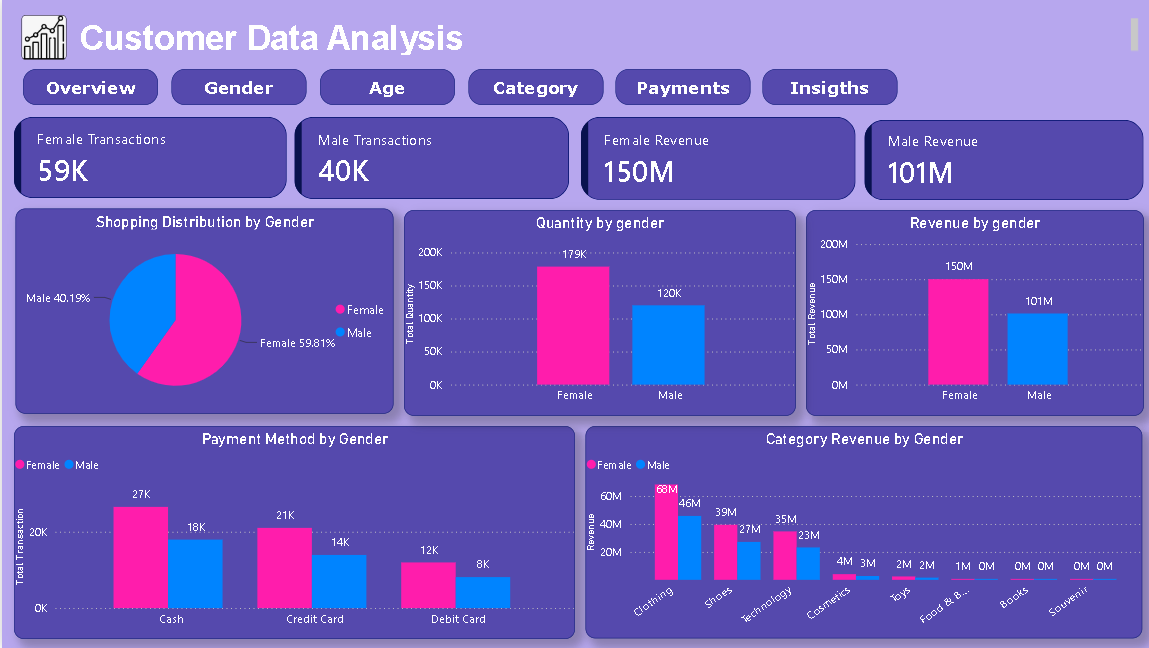

This screenshot's page, from the dashboard's own definition file:
{"tool":"powerbi","page":{"name":"Gender Analysis","canvas":[1280,720],"ordinal":1},"visuals":[{"type":"textbox","box":[81.4,15.7,1185.7,50],"z":0},{"type":"actionButton","box":[22.5,76.2,150,40],"z":1000},{"type":"actionButton","box":[187.5,76.2,150,40],"z":2000},{"type":"actionButton","box":[353.8,76.2,150,40],"z":3000},{"type":"actionButton","box":[518.8,76.2,150,40],"z":4000},{"type":"actionButton","box":[681.2,76.2,150,40],"z":5000},{"type":"actionButton","box":[845,76.2,150,40],"z":6000},{"type":"image","box":[22,16,50,50],"z":7000},{"type":"pieChart","title":"Shopping Distribution by Gender","fields":{"Category":["project_customer_segmentation customer.gender"],"Y":["project_customer_segmentation customer.Total Transaction"]},"box":[14.3,232.1,420,227.9],"z":8000},{"type":"clusteredColumnChart","title":"Revenue by gender","fields":{"Y":["project_customer_segmentation customer.Total Revenue"],"Category":["project_customer_segmentation customer.gender"]},"box":[893.3,233.3,375,228.3],"z":9000},{"type":"clusteredColumnChart","title":"Payment Method by Gender","fields":{"Category":["project_customer_segmentation customer.payment_method"],"Series":["project_customer_segmentation customer.gender"],"Y":["project_customer_segmentation customer.Total Transaction"]},"box":[13.3,473.3,623.3,236.7],"z":10000},{"type":"clusteredColumnChart","title":"Category Revenue by Gender","fields":{"Category":["project_customer_segmentation customer.category"],"Y":["Sum(project_customer_segmentation customer.total_revenue)"],"Series":["project_customer_segmentation customer.gender"]},"box":[648.8,472.5,618.8,236.2],"z":11000},{"type":"columnChart","title":"Quantity by gender","fields":{"Category":["project_customer_segmentation customer.gender"],"Y":["project_customer_segmentation customer.Total Quantity"]},"box":[446.7,233.3,435,228.3],"z":12000},{"type":"cardVisual","fields":{"Data":["project_customer_segmentation customer.Female Transactions"]},"box":[13.1,130,303.1,90],"z":13000},{"type":"cardVisual","fields":{"Data":["project_customer_segmentation customer.Male Transactions"]},"box":[325,130,305.6,91.9],"z":14000},{"type":"cardVisual","fields":{"Data":["project_customer_segmentation customer.Male Revenue"]},"box":[959.1,132.7,310,90],"z":17000},{"type":"cardVisual","fields":{"Data":["project_customer_segmentation customer.Female Revenue"]},"box":[643.7,130.5,305.3,92.1],"z":18000}]}

Visuals, with their boxes in screenshot pixels (x1, y1, x2, y2), scaled from the page's 1280x720 canvas onto the 1149x648 screenshot:
textbox: left=73, top=14, right=1137, bottom=59
actionButton: left=20, top=69, right=155, bottom=105
actionButton: left=168, top=69, right=303, bottom=105
actionButton: left=318, top=69, right=452, bottom=105
actionButton: left=466, top=69, right=600, bottom=105
actionButton: left=611, top=69, right=746, bottom=105
actionButton: left=759, top=69, right=893, bottom=105
image: left=20, top=14, right=65, bottom=59
"Shopping Distribution by Gender" pieChart: left=13, top=209, right=390, bottom=414
"Revenue by gender" clusteredColumnChart: left=802, top=210, right=1138, bottom=415
"Payment Method by Gender" clusteredColumnChart: left=12, top=426, right=571, bottom=639
"Category Revenue by Gender" clusteredColumnChart: left=582, top=425, right=1138, bottom=638
"Quantity by gender" columnChart: left=401, top=210, right=791, bottom=415
cardVisual - project_customer_segmentation customer.Female Transactions: left=12, top=117, right=284, bottom=198
cardVisual - project_customer_segmentation customer.Male Transactions: left=292, top=117, right=566, bottom=200
cardVisual - project_customer_segmentation customer.Male Revenue: left=861, top=119, right=1139, bottom=200
cardVisual - project_customer_segmentation customer.Female Revenue: left=578, top=117, right=852, bottom=200
